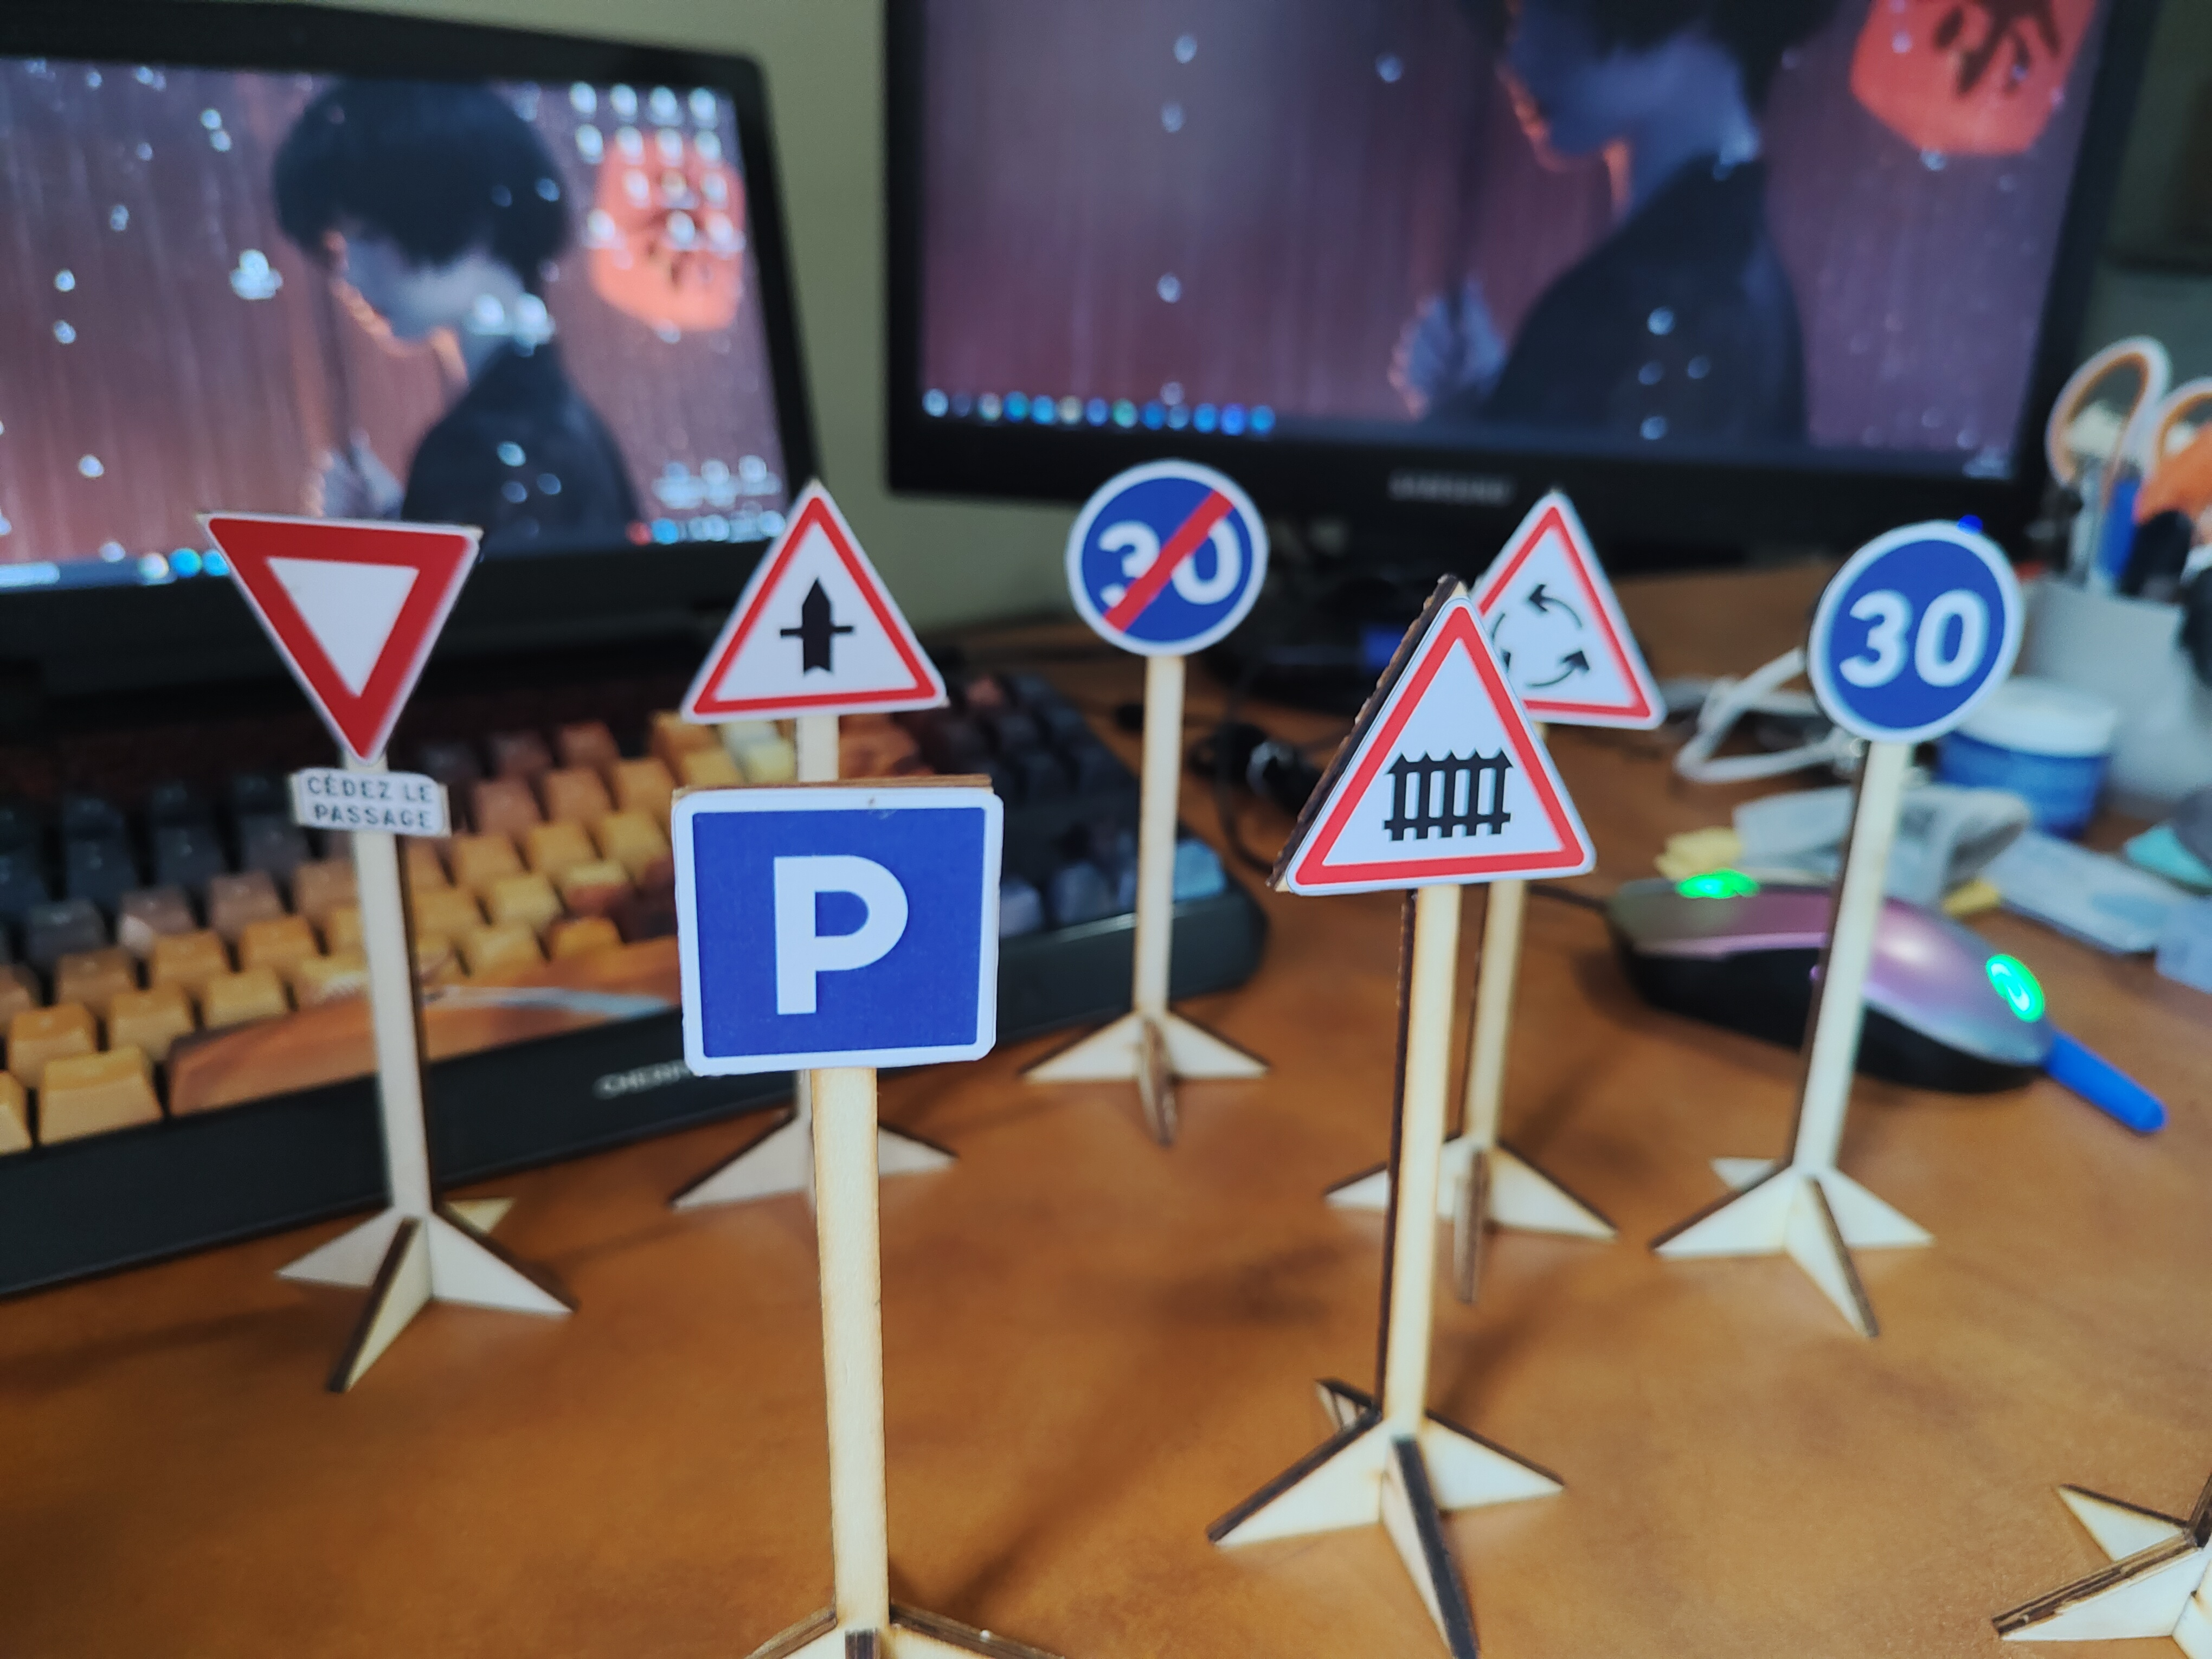P: (658, 779, 1019, 1073)
ban: (1066, 462, 1264, 652)
cycle: (1433, 481, 1655, 728)
first: (674, 467, 967, 720)
second: (199, 500, 489, 857)
thirty: (1831, 526, 2020, 732)
train: (1259, 580, 1599, 889)
